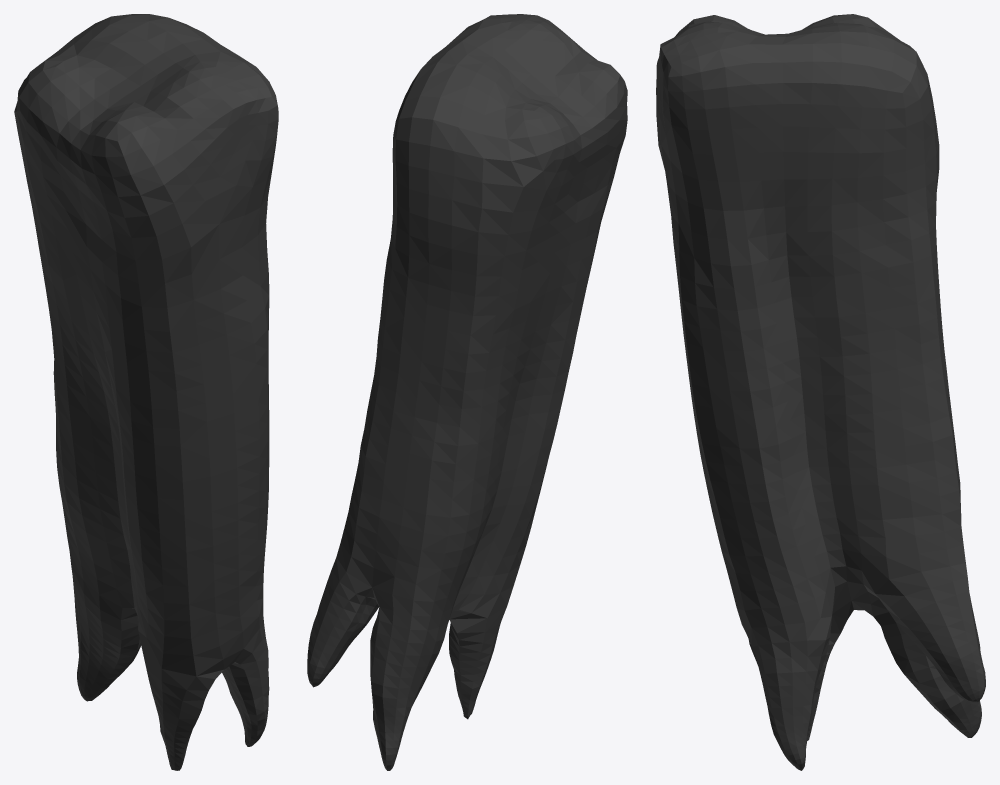
The model's file is L_mand_P4_copy000.glb.
3 views of the same model, side by side, from view 1: azimuth 30°, elevation 25°; view 2: azimuth 150°, elevation 25°; view 3: azimuth 270°, elevation 25° (orthographic). The views are drawn at different scales.
Parts seen in each view (by area): view 1: L_mand_P4_copy000; view 2: L_mand_P4_copy000; view 3: L_mand_P4_copy000.
Part boxes in pixels (x1,y1,x2,y2): L_mand_P4_copy000: (14,14,278,770); L_mand_P4_copy000: (307,14,627,770); L_mand_P4_copy000: (656,14,985,770).
Size of the model in its own units: 0.1104 by 0.3562 by 0.1501.
Materials: 1 (1 with a texture image).
